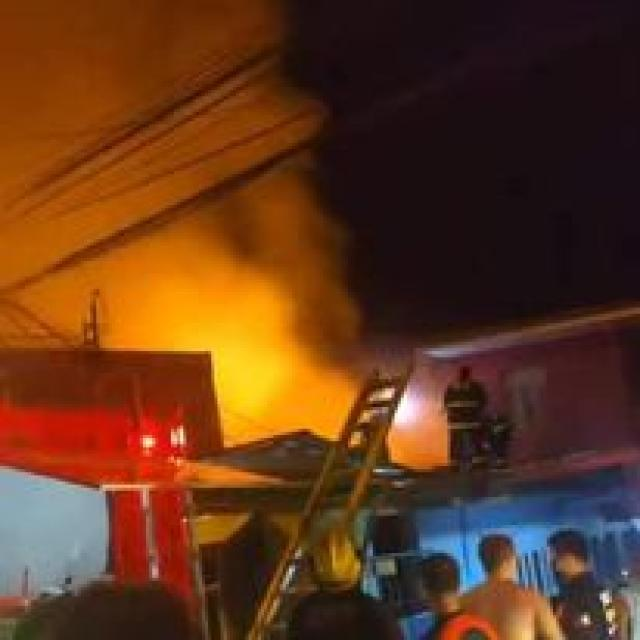Fire: (193, 327, 310, 438)
Smoke: (1, 0, 340, 343)
